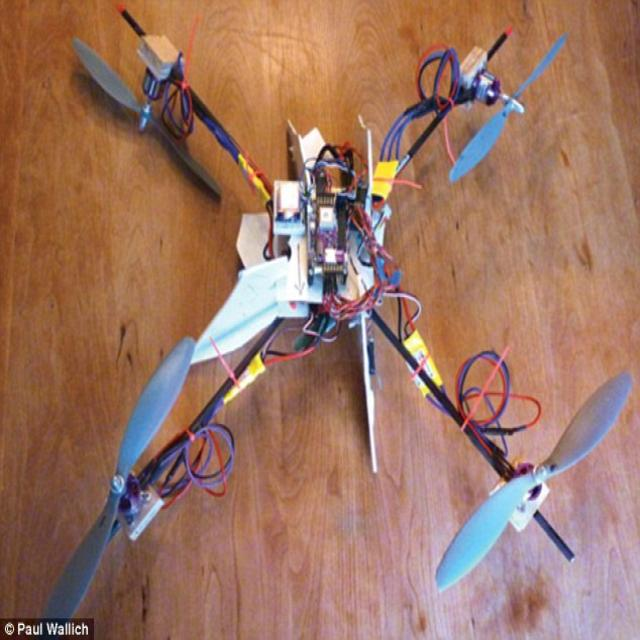drone: (75, 0, 566, 581)
